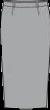Hemline: (4, 105, 48, 109)
Waistline: (2, 5, 48, 8), (3, 0, 46, 3)
